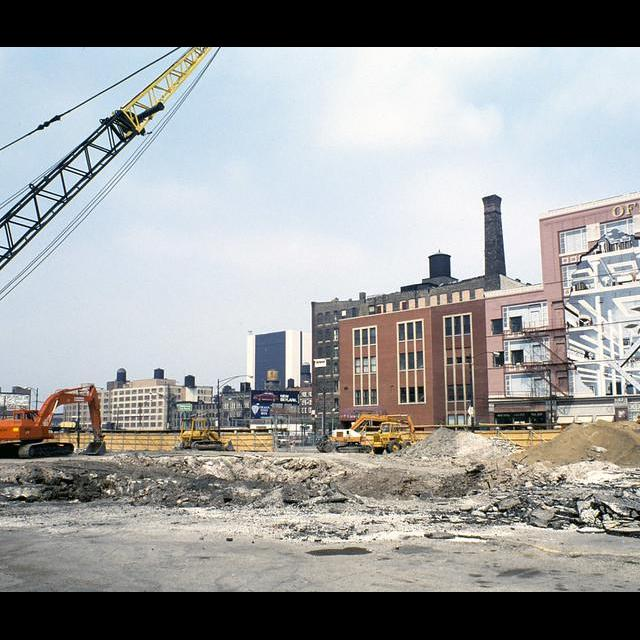Excavator: (0, 386, 108, 458), (317, 415, 418, 454)
wheel loader: (176, 417, 235, 452), (371, 422, 411, 454)
